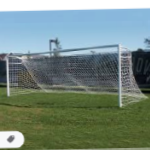goals: (5, 43, 147, 111)
